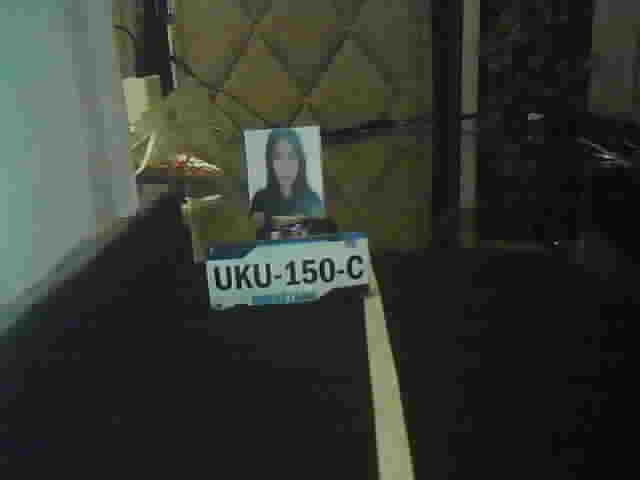PLACA: (203, 229, 370, 314)
ROSTRO: (248, 128, 325, 217)
